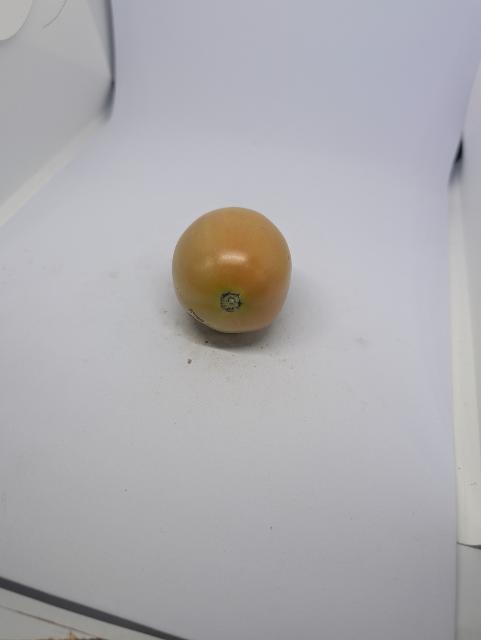turning: (168, 200, 302, 337)
